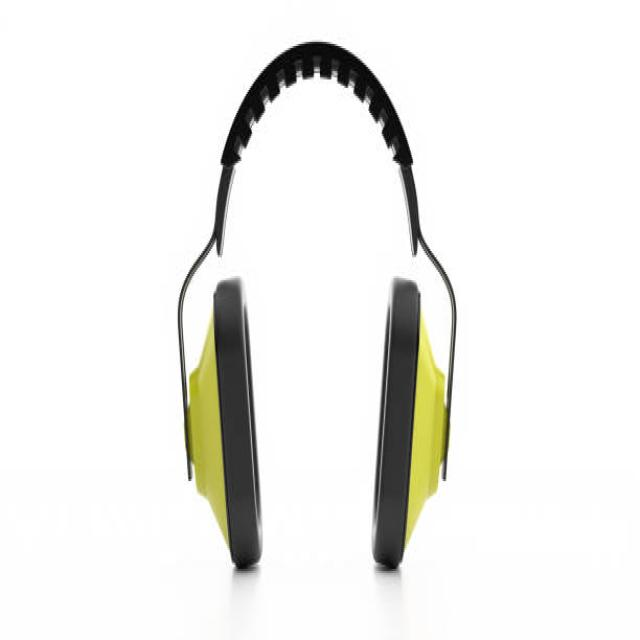Ear-protection: (180, 24, 457, 578)
